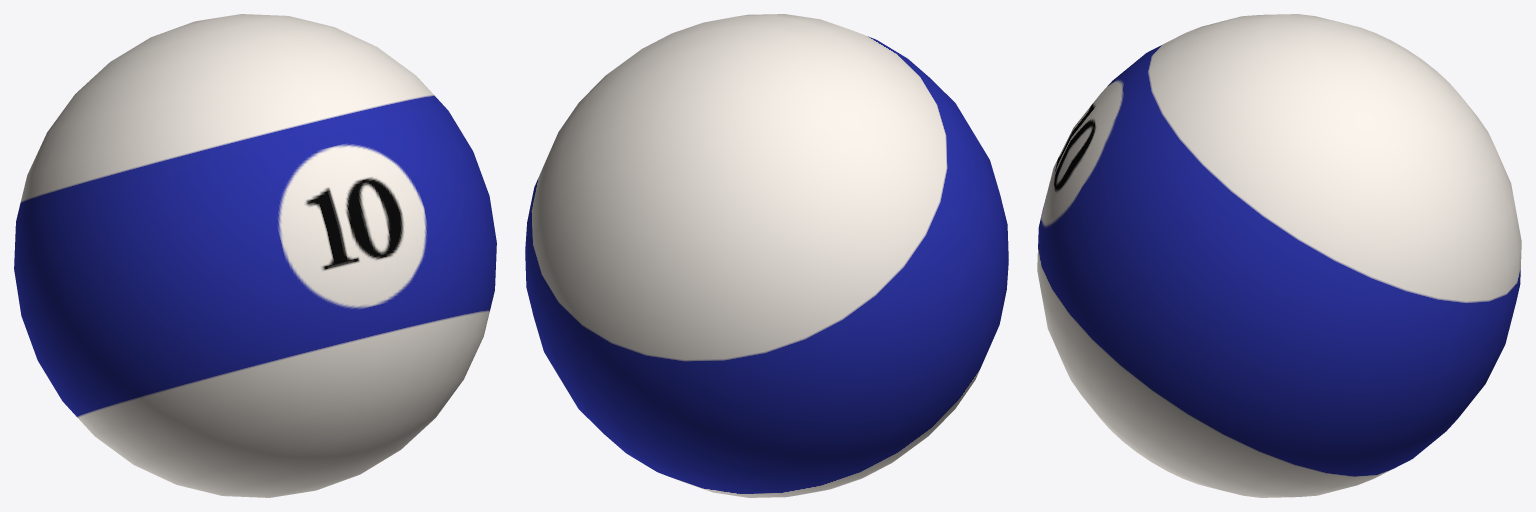
Rendered from ball10.obj.
3 renders of one model, left to right at view 1: azimuth 30°, elevation 25°; view 2: azimuth 150°, elevation 25°; view 3: azimuth 270°, elevation 25°, orthographic.
Parts seen in each view (by area): view 1: Ball10_Mesh.014; view 2: Ball10_Mesh.014; view 3: Ball10_Mesh.014.
Boxes of the visible parts, <box> form: Ball10_Mesh.014: <box>14,14,496,497</box>; Ball10_Mesh.014: <box>525,14,1008,497</box>; Ball10_Mesh.014: <box>1037,14,1521,497</box>.
Bounding box in the file's own units: 0.9617 × 0.9597 × 0.9597.
Materials: 1 (1 with a texture image).
